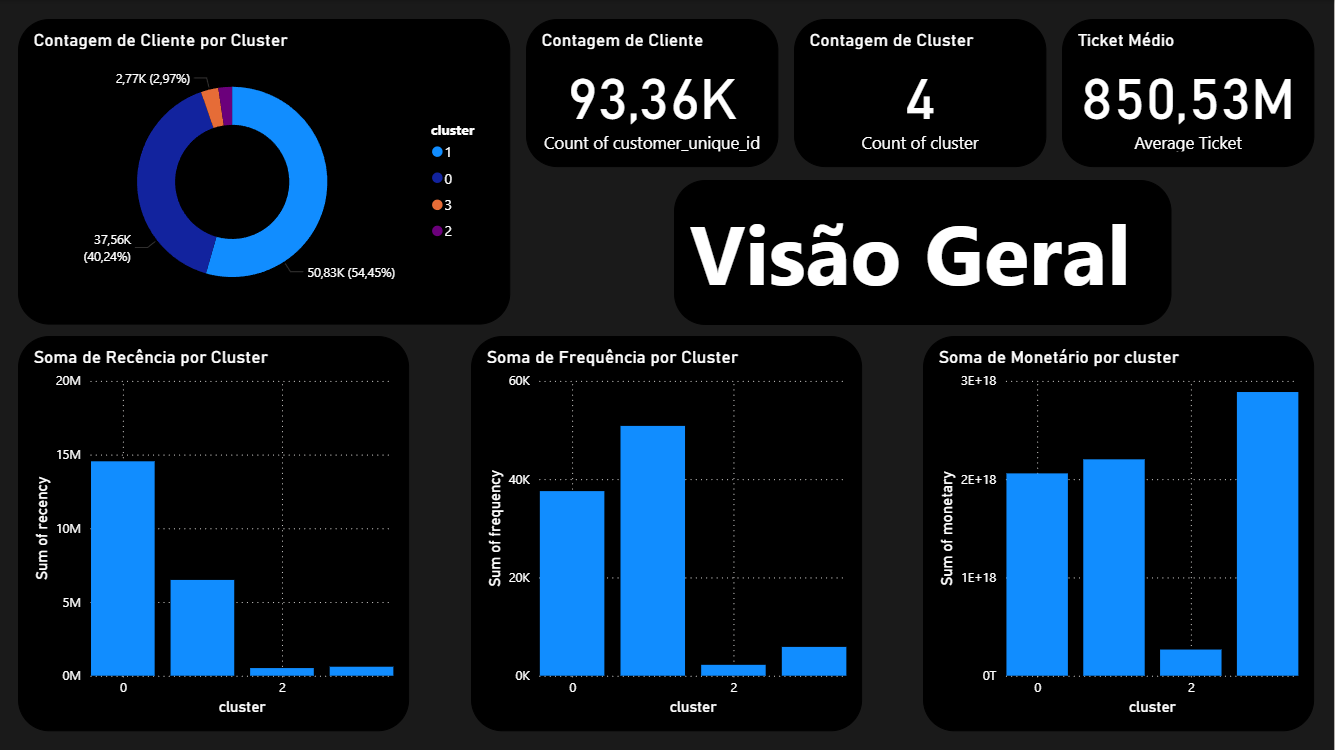

What the dashboard file says about the page in this screenshot:
{"tool":"powerbi","page":{"name":"Visão Geral","canvas":[1280,720],"ordinal":0},"visuals":[{"type":"card","title":"Contagem de Cliente","fields":{"Values":["Count(clustered_customers.customer_unique_id)"]},"box":[505.3,18.2,241.6,141.9],"z":0},{"type":"card","title":"Contagem de Cluster","fields":{"Values":["Count(clustered_customers.cluster)"]},"box":[762.2,18.2,241.6,141.9],"z":1000},{"type":"donutChart","title":"Contagem de Cliente por Cluster","fields":{"Y":["Count(clustered_customers.customer_unique_id)"],"Category":["clustered_customers.cluster"]},"box":[18.2,18.2,471.7,293.4],"z":2000},{"type":"card","title":"Ticket Médio","fields":{"Values":["clustered_customers.Measure"]},"box":[1019.2,18.2,241.6,141.9],"z":3000},{"type":"columnChart","title":"Soma de Monetário por cluster","fields":{"Category":["clustered_customers.cluster"],"Y":["Sum(clustered_customers.monetary)"]},"box":[885.9,322.2,374.9,378.7],"z":4000},{"type":"columnChart","title":"Soma de Recência por Cluster","fields":{"Category":["clustered_customers.cluster"],"Y":["Sum(clustered_customers.recency)"]},"box":[18.2,322.2,374.9,378.7],"z":5000},{"type":"columnChart","title":"Soma de Frequência por Cluster","fields":{"Category":["clustered_customers.cluster"],"Y":["Sum(clustered_customers.frequency)"]},"box":[452.6,322.2,374.9,378.7],"z":6000},{"type":"textbox","box":[647.2,172.6,477.5,139],"z":7000}]}

Visuals, with their boxes in screenshot pixels (x1, y1, x2, y2), scaled from the page's 1280x720 canvas onto the 1335x750 screenshot:
"Contagem de Cliente" card: (left=527, top=19, right=779, bottom=167)
"Contagem de Cluster" card: (left=795, top=19, right=1047, bottom=167)
"Contagem de Cliente por Cluster" donutChart: (left=19, top=19, right=511, bottom=325)
"Ticket Médio" card: (left=1063, top=19, right=1315, bottom=167)
"Soma de Monetário por cluster" columnChart: (left=924, top=336, right=1315, bottom=730)
"Soma de Recência por Cluster" columnChart: (left=19, top=336, right=410, bottom=730)
"Soma de Frequência por Cluster" columnChart: (left=472, top=336, right=863, bottom=730)
textbox: (left=675, top=180, right=1173, bottom=325)
